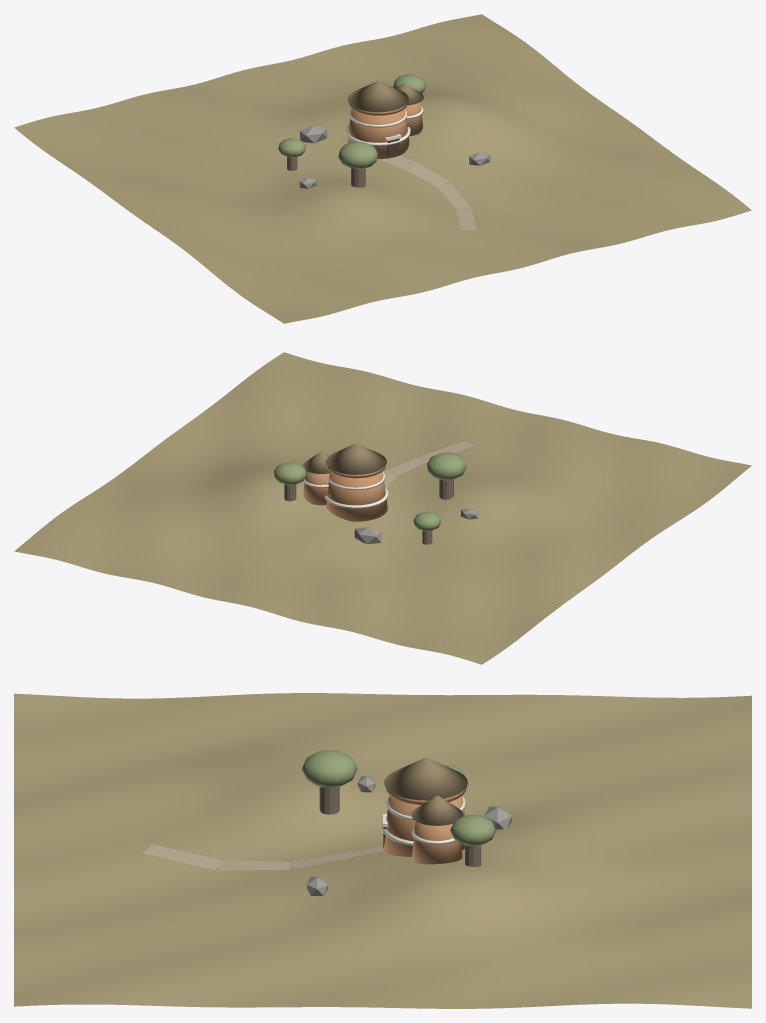
File: atakora-diorama.glb
The picture shows the model from 3 angles, top to bottom: view 1: azimuth 30°, elevation 25°; view 2: azimuth 150°, elevation 25°; view 3: azimuth 270°, elevation 25°; orthographic projection. The views are drawn at different scales.
Visible parts, largest first — view 1: Terrain, TataSombaBody, TataSombaRoof, BaobabA_crown; view 2: Terrain, TataSombaBody, TataSombaRoof, BaobabA_crown, TataSombaAnexo, BaobabB_crown; view 3: Terrain, TataSombaRoof, BaobabA_crown, TataSombaAnexo, TataSombaBody, BaobabB_crown, TataSombaAnexoRoof, PathSeg0, PathSeg1, BaobabA_trunk.
Part boxes in pixels (bbox=[...]): Terrain: bbox=[14, 14, 751, 323]; TataSombaBody: bbox=[347, 109, 409, 158]; TataSombaRoof: bbox=[347, 81, 408, 112]; BaobabA_crown: bbox=[338, 141, 378, 169]; Terrain: bbox=[14, 352, 751, 664]; TataSombaBody: bbox=[325, 471, 387, 521]; TataSombaRoof: bbox=[325, 443, 386, 474]; BaobabA_crown: bbox=[426, 452, 466, 480]; TataSombaAnexo: bbox=[303, 471, 329, 505]; BaobabB_crown: bbox=[273, 462, 306, 485]; Terrain: bbox=[14, 693, 751, 1008]; TataSombaRoof: bbox=[384, 757, 467, 800]; BaobabA_crown: bbox=[302, 750, 357, 787]; TataSombaAnexo: bbox=[412, 821, 462, 864]; TataSombaBody: bbox=[382, 796, 464, 856]; BaobabB_crown: bbox=[450, 815, 496, 845]; TataSombaAnexoRoof: bbox=[411, 795, 463, 825]; PathSeg0: bbox=[143, 844, 221, 870]; PathSeg1: bbox=[217, 860, 291, 870]; BaobabA_trunk: bbox=[319, 787, 339, 814].
Bounding box in the file's own units: 36 × 5.63 × 36.
